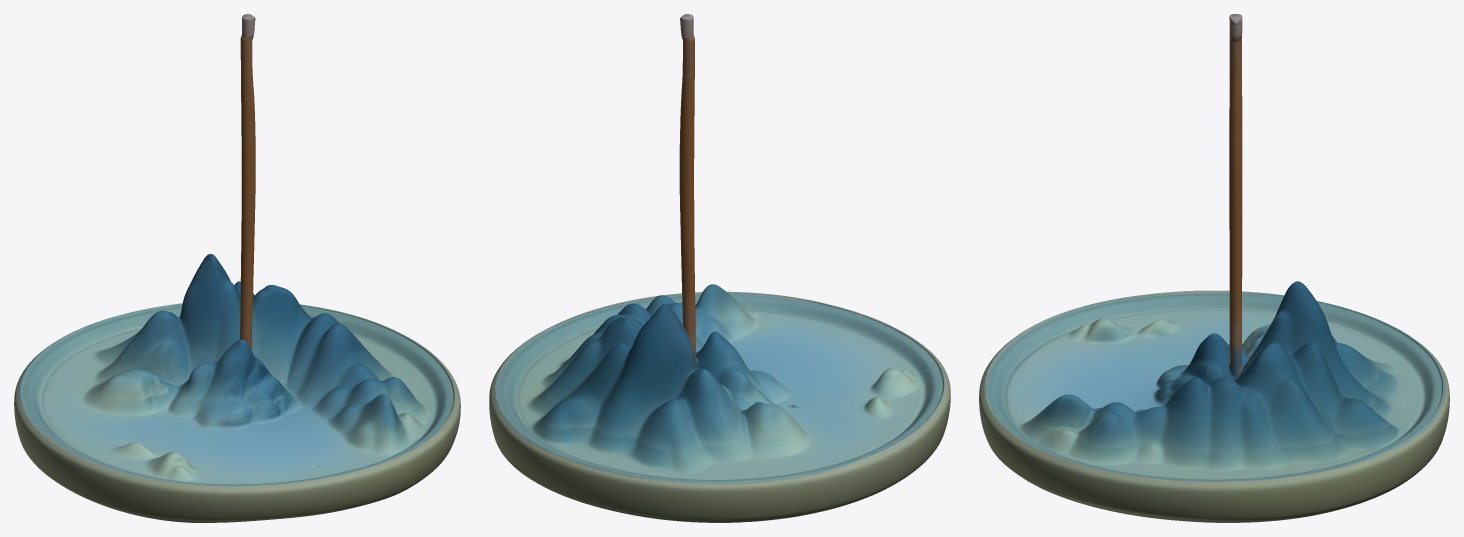
Rendered from layer-mountain.glb.
3 views of the same model, side by side, from view 1: azimuth 30°, elevation 25°; view 2: azimuth 150°, elevation 25°; view 3: azimuth 270°, elevation 25° (orthographic). The views are drawn at different scales.
Parts seen in each view (by area): view 1: node_0; view 2: node_0; view 3: node_0.
Part boxes in pixels (x1=…): node_0: x1=14, y1=14, x2=460, y2=522; node_0: x1=489, y1=14, x2=950, y2=522; node_0: x1=979, y1=14, x2=1449, y2=522.
Size of the model in its own units: 0.8562 by 0.8666 by 0.8663.
1 material, 1 textured.
